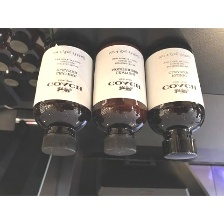cleaning_solution: (30, 29, 100, 157), (138, 33, 207, 162), (87, 32, 151, 159)
